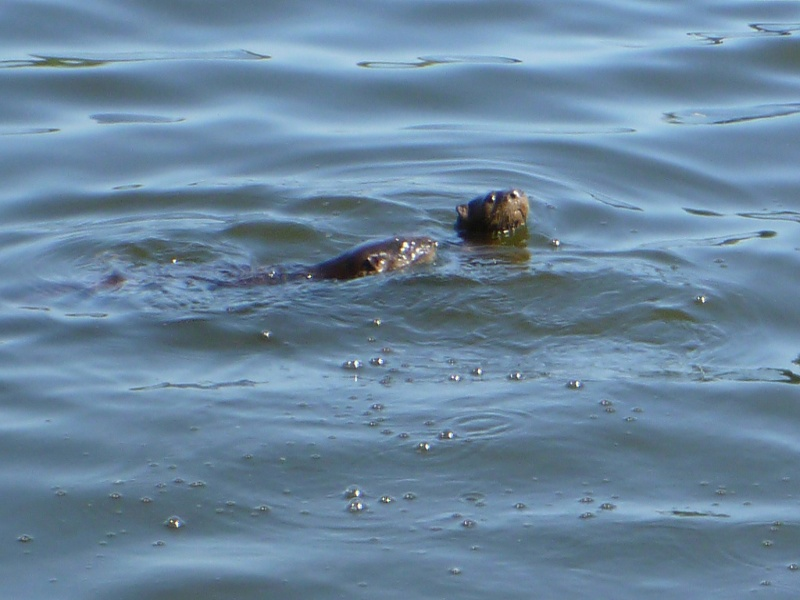minkish: (218, 230, 437, 318), (444, 176, 541, 260)
